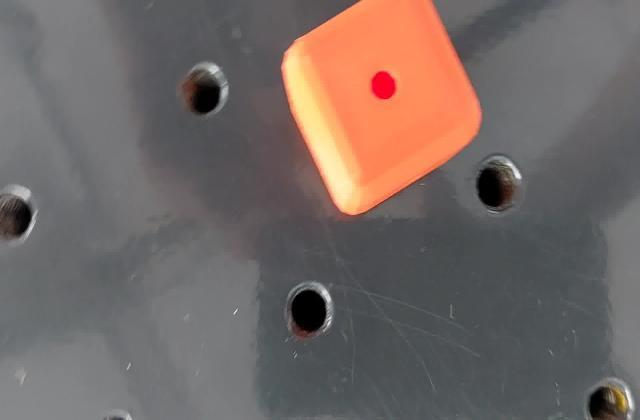cube: (276, 4, 487, 219)
